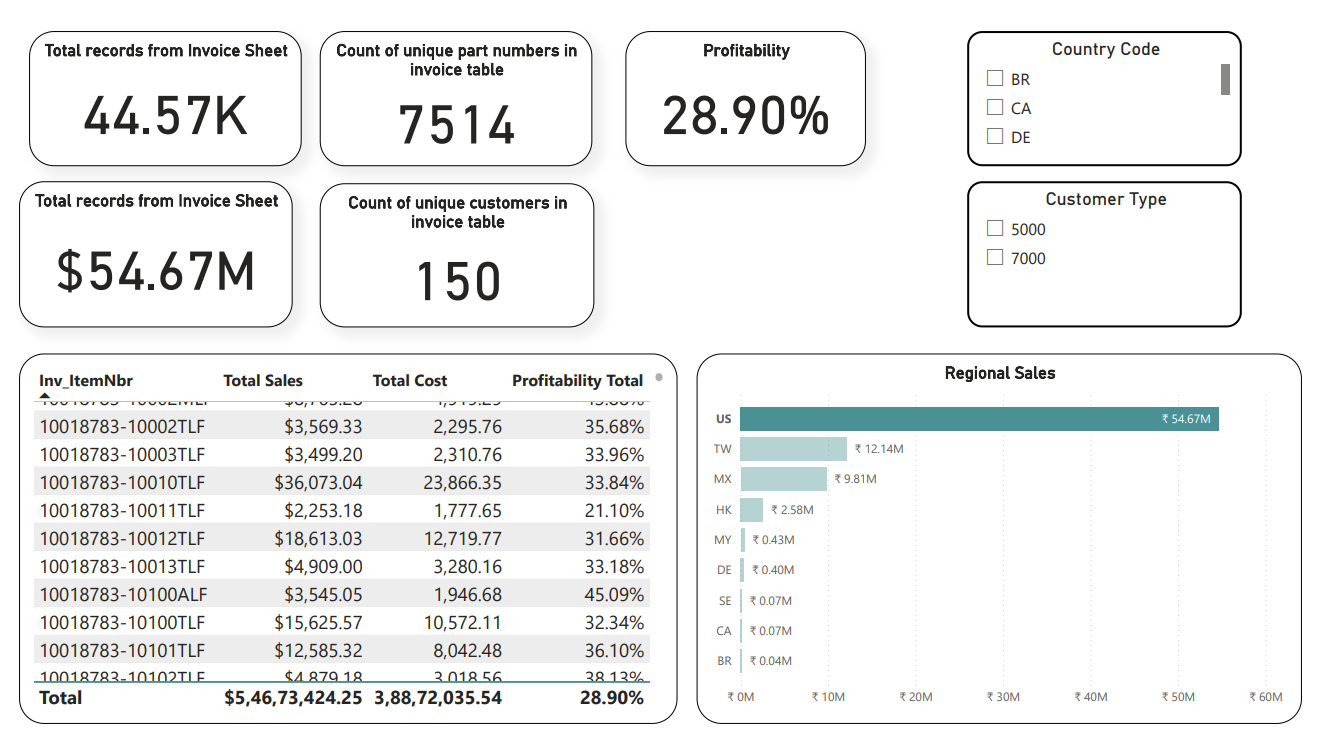

Layout of this report page (visuals, bound fields, positions):
{"tool":"powerbi","page":{"name":"Basic Statistics","canvas":[1280,720],"ordinal":0},"visuals":[{"type":"card","title":"Total records from Invoice Sheet","fields":{"Values":["CountNonNull(amphenol invoice_sheet.Inv_CustNbr)"]},"box":[12.3,89.7,272.9,111.4],"z":0},{"type":"card","title":"Count of unique part numbers in billing record","fields":{"Values":["Count(amphenol invoice_sheet.Inv_ItemNbr)"]},"box":[301.4,90,272.9,111.4],"z":1000},{"type":"card","title":"Count of unique customers in billing record","fields":{"Values":["Count(amphenol invoice_sheet.Inv_CustNbr)"]},"box":[302.9,208.6,272.9,124.3],"z":2000},{"type":"card","title":"Total revenue from billing sheet","fields":{"Values":["_Measures.Total Sales"]},"box":[12.9,207.1,272.9,125.7],"z":3000},{"type":"card","title":"Profitability","fields":{"Values":["_Measures.Profitability Total"]},"box":[590,90,238.6,111.4],"z":4000},{"type":"clusteredBarChart","title":"Regional Sales","fields":{"Category":["amphenol customer_master.Custmast_CtryCode"],"Y":["_Measuers.Total Sales"]},"box":[18.6,350,920,352.9],"z":5000},{"type":"slicer","title":"Country Code","fields":{"Values":["amphenol customer_master.Custmast_CtryCode"]},"box":[988.6,350,265.7,352.9],"z":6000},{"type":"slicer","title":"Customer Type","fields":{"Values":["amphenol customer_master.Custmast_type"]},"box":[988.6,208.6,265.7,124.3],"z":7000},{"type":"shape","box":[10,12.9,17.1,61.4],"z":8000},{"type":"textbox","box":[40,22.9,417.1,51.4],"z":9000}]}

Visuals, with their boxes in screenshot pixels (x1, y1, x2, y2), scaled from the page's 1280x720 canvas onto the 1318x756 screenshot:
"Total records from Invoice Sheet" card: bbox=(13, 94, 294, 211)
"Count of unique part numbers in billing record" card: bbox=(310, 94, 591, 211)
"Count of unique customers in billing record" card: bbox=(312, 219, 593, 350)
"Total revenue from billing sheet" card: bbox=(13, 217, 294, 349)
"Profitability" card: bbox=(608, 94, 853, 211)
"Regional Sales" clusteredBarChart: bbox=(19, 368, 966, 738)
"Country Code" slicer: bbox=(1018, 368, 1292, 738)
"Customer Type" slicer: bbox=(1018, 219, 1292, 350)
shape: bbox=(10, 14, 28, 78)
textbox: bbox=(41, 24, 471, 78)
